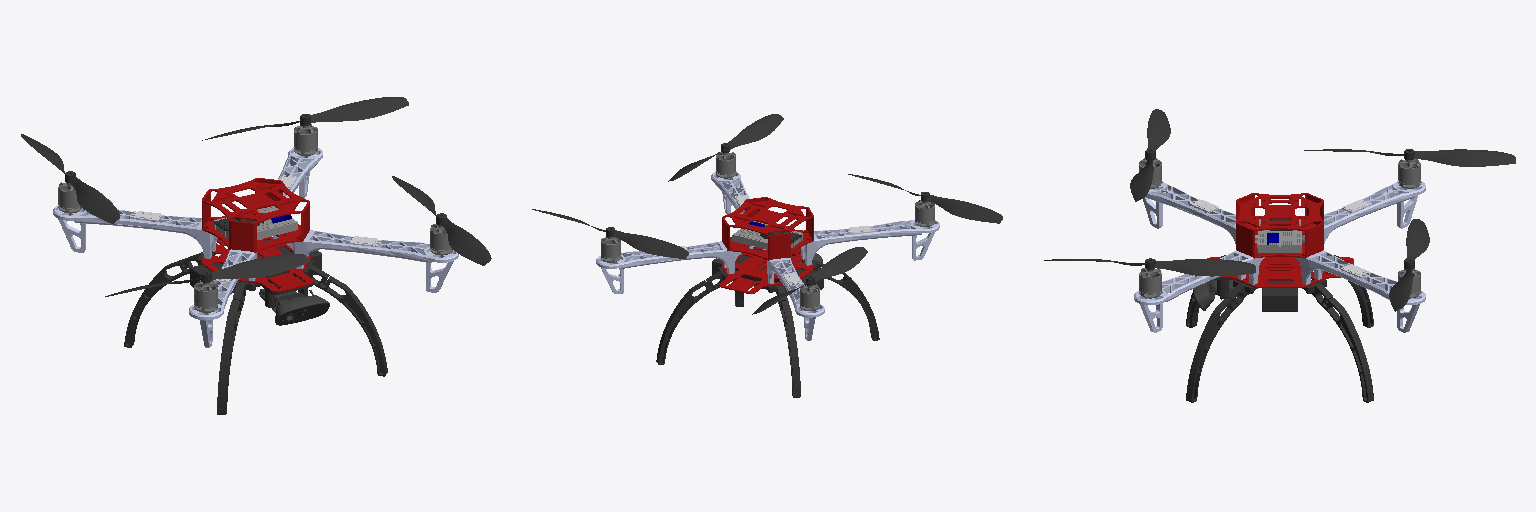
URDF robot description (f450_uav):
<?xml version="1.0" ?>
<!-- Generated using onshape-to-robot -->
<!-- Onshape https://cad.onshape.com/documents/eabe3530e827b594760d5147/w/40df5cfaaab61d9711ab5c88/e/db3a2be80f20127e1a4178f8 -->
<robot name="f450_uav">
  <!-- Link bottom_plate -->
  <link name="bottom_plate">
    <inertial>
      <origin xyz="0.0651109 -0.0387301 0.0181534" rpy="0 0 0"/>
      <mass value="1.25653"/>
      <inertia ixx="0.012363" ixy="3.3165e-05" ixz="5.60471e-05" iyy="0.0124502" iyz="-0.00031169" izz="0.0213427"/>
    </inertial>
    <!-- Part esp32_dev_kit_v1 -->
    <visual>
      <origin xyz="0.0178007 -0.0308852 0.0523806" rpy="0 -0 -1.5708"/>
      <geometry>
        <mesh filename="package://f450_description/assets/esp32_dev_kit_v1.stl"/>
      </geometry>
      <material name="esp32_dev_kit_v1_material">
        <color rgba="0.25098 0.25098 0.25098 1"/>
      </material>
    </visual>
    <collision>
      <origin xyz="0.0178007 -0.0308852 0.0523806" rpy="0 -0 -1.5708"/>
      <geometry>
        <mesh filename="package://f450_description/assets/esp32_dev_kit_v1.stl"/>
      </geometry>
    </collision>
    <!-- Part raspberry_pi_3_b_plus -->
    <visual>
      <origin xyz="0.0653323 -0.0329298 0.0764926" rpy="-1.5708 0 3.14159"/>
      <geometry>
        <mesh filename="package://f450_description/assets/raspberry_pi_3_b_plus.stl"/>
      </geometry>
      <material name="raspberry_pi_3_b_plus_material">
        <color rgba="0.960784 0.960784 0.964706 1"/>
      </material>
    </visual>
    <collision>
      <origin xyz="0.0653323 -0.0329298 0.0764926" rpy="-1.5708 0 3.14159"/>
      <geometry>
        <mesh filename="package://f450_description/assets/raspberry_pi_3_b_plus.stl"/>
      </geometry>
    </collision>
    <!-- Part bottom_plate -->
    <visual>
      <origin xyz="0.0653685 -0.0328291 0.000583504" rpy="-0 0 1.5708"/>
      <geometry>
        <mesh filename="package://f450_description/assets/bottom_plate.stl"/>
      </geometry>
      <material name="bottom_plate_material">
        <color rgba="0.694118 0.101961 0.101961 1"/>
      </material>
    </visual>
    <collision>
      <origin xyz="0.0653685 -0.0328291 0.000583504" rpy="-0 0 1.5708"/>
      <geometry>
        <mesh filename="package://f450_description/assets/bottom_plate.stl"/>
      </geometry>
    </collision>
    <!-- Part camera_support -->
    <visual>
      <origin xyz="0.0658056 -0.104579 -0.0032165" rpy="0 0 -3.14159"/>
      <geometry>
        <mesh filename="package://f450_description/assets/camera_support.stl"/>
      </geometry>
      <material name="camera_support_material">
        <color rgba="0.25098 0.25098 0.25098 1"/>
      </material>
    </visual>
    <collision>
      <origin xyz="0.0658056 -0.104579 -0.0032165" rpy="0 0 -3.14159"/>
      <geometry>
        <mesh filename="package://f450_description/assets/camera_support.stl"/>
      </geometry>
    </collision>
    <!-- Part mpu_9250 -->
    <visual>
      <origin xyz="0.104686 -0.0488602 0.0542192" rpy="0 -0 -1.5708"/>
      <geometry>
        <mesh filename="package://f450_description/assets/mpu_9250.stl"/>
      </geometry>
      <material name="mpu_9250_material">
        <color rgba="0 0 0.627451 1"/>
      </material>
    </visual>
    <collision>
      <origin xyz="0.104686 -0.0488602 0.0542192" rpy="0 -0 -1.5708"/>
      <geometry>
        <mesh filename="package://f450_description/assets/mpu_9250.stl"/>
      </geometry>
    </collision>
    <!-- Part battery -->
    <visual>
      <origin xyz="0.0655915 -0.0328291 -0.0242165" rpy="0 0 -3.14159"/>
      <geometry>
        <mesh filename="package://f450_description/assets/battery.stl"/>
      </geometry>
      <material name="battery_material">
        <color rgba="0.25098 0.25098 0.25098 1"/>
      </material>
    </visual>
    <collision>
      <origin xyz="0.0655915 -0.0328291 -0.0242165" rpy="0 0 -3.14159"/>
      <geometry>
        <mesh filename="package://f450_description/assets/battery.stl"/>
      </geometry>
    </collision>
    <!-- Part 1045_propeller -->
    <visual>
      <origin xyz="-0.0935326 0.126083 0.0744345" rpy="-0 0 1.5708"/>
      <geometry>
        <mesh filename="package://f450_description/assets/1045_propeller.stl"/>
      </geometry>
      <material name="1045_propeller_material">
        <color rgba="0.25098 0.25098 0.25098 1"/>
      </material>
    </visual>
    <collision>
      <origin xyz="-0.0935326 0.126083 0.0744345" rpy="-0 0 1.5708"/>
      <geometry>
        <mesh filename="package://f450_description/assets/1045_propeller.stl"/>
      </geometry>
    </collision>
    <!-- Part 1045_propeller_2 -->
    <visual>
      <origin xyz="0.22427 -0.191741 0.0744345" rpy="0 -0 -1.5708"/>
      <geometry>
        <mesh filename="package://f450_description/assets/1045_propeller.stl"/>
      </geometry>
      <material name="1045_propeller_2_material">
        <color rgba="0.25098 0.25098 0.25098 1"/>
      </material>
    </visual>
    <collision>
      <origin xyz="0.22427 -0.191741 0.0744345" rpy="0 -0 -1.5708"/>
      <geometry>
        <mesh filename="package://f450_description/assets/1045_propeller.stl"/>
      </geometry>
    </collision>
    <!-- Part arm -->
    <visual>
      <origin xyz="0.163736 -0.131207 0.0399845" rpy="0 -0 -2.35619"/>
      <geometry>
        <mesh filename="package://f450_description/assets/arm.stl"/>
      </geometry>
      <material name="arm_material">
        <color rgba="0.796078 0.823529 0.937255 1"/>
      </material>
    </visual>
    <collision>
      <origin xyz="0.163736 -0.131207 0.0399845" rpy="0 -0 -2.35619"/>
      <geometry>
        <mesh filename="package://f450_description/assets/arm.stl"/>
      </geometry>
    </collision>
    <!-- Part arm_2 -->
    <visual>
      <origin xyz="0.163746 0.0655383 0.0399845" rpy="-0 -0 -0.785398"/>
      <geometry>
        <mesh filename="package://f450_description/assets/arm.stl"/>
      </geometry>
      <material name="arm_2_material">
        <color rgba="0.796078 0.823529 0.937255 1"/>
      </material>
    </visual>
    <collision>
      <origin xyz="0.163746 0.0655383 0.0399845" rpy="-0 -0 -0.785398"/>
      <geometry>
        <mesh filename="package://f450_description/assets/arm.stl"/>
      </geometry>
    </collision>
    <!-- Part arm_3 -->
    <visual>
      <origin xyz="-0.0329989 0.065549 0.0399845" rpy="-0 0 0.785398"/>
      <geometry>
        <mesh filename="package://f450_description/assets/arm.stl"/>
      </geometry>
      <material name="arm_3_material">
        <color rgba="0.796078 0.823529 0.937255 1"/>
      </material>
    </visual>
    <collision>
      <origin xyz="-0.0329989 0.065549 0.0399845" rpy="-0 0 0.785398"/>
      <geometry>
        <mesh filename="package://f450_description/assets/arm.stl"/>
      </geometry>
    </collision>
    <!-- Part leg -->
    <visual>
      <origin xyz="0.0183105 0.00715784 -0.000217496" rpy="-3.14159 0 0.785398"/>
      <geometry>
        <mesh filename="package://f450_description/assets/leg.stl"/>
      </geometry>
      <material name="leg_material">
        <color rgba="0.25098 0.25098 0.25098 1"/>
      </material>
    </visual>
    <collision>
      <origin xyz="0.0183105 0.00715784 -0.000217496" rpy="-3.14159 0 0.785398"/>
      <geometry>
        <mesh filename="package://f450_description/assets/leg.stl"/>
      </geometry>
    </collision>
    <!-- Part top_plate -->
    <visual>
      <origin xyz="0.0653685 -0.0328291 0.0756676" rpy="-0 -0 -0"/>
      <geometry>
        <mesh filename="package://f450_description/assets/top_plate.stl"/>
      </geometry>
      <material name="top_plate_material">
        <color rgba="0.694118 0.101961 0.101961 1"/>
      </material>
    </visual>
    <collision>
      <origin xyz="0.0653685 -0.0328291 0.0756676" rpy="-0 -0 -0"/>
      <geometry>
        <mesh filename="package://f450_description/assets/top_plate.stl"/>
      </geometry>
    </collision>
    <!-- Part holybro_brushless_motor_2216_880kv -->
    <visual>
      <origin xyz="-0.0935326 0.126083 0.0384345" rpy="0 0 -3.14159"/>
      <geometry>
        <mesh filename="package://f450_description/assets/holybro_brushless_motor_2216_880kv.stl"/>
      </geometry>
      <material name="holybro_brushless_motor_2216_880kv_material">
        <color rgba="0.501961 0.501961 0.501961 1"/>
      </material>
    </visual>
    <collision>
      <origin xyz="-0.0935326 0.126083 0.0384345" rpy="0 0 -3.14159"/>
      <geometry>
        <mesh filename="package://f450_description/assets/holybro_brushless_motor_2216_880kv.stl"/>
      </geometry>
    </collision>
    <!-- Part top_plate_2 -->
    <visual>
      <origin xyz="0.0653685 -0.0328291 0.0390156" rpy="0 0 3.14159"/>
      <geometry>
        <mesh filename="package://f450_description/assets/top_plate__2.stl"/>
      </geometry>
      <material name="top_plate_2_material">
        <color rgba="0.694118 0.101961 0.101961 1"/>
      </material>
    </visual>
    <collision>
      <origin xyz="0.0653685 -0.0328291 0.0390156" rpy="0 0 3.14159"/>
      <geometry>
        <mesh filename="package://f450_description/assets/top_plate__2.stl"/>
      </geometry>
    </collision>
    <!-- Part protoboard -->
    <visual>
      <origin xyz="0.0654307 -0.0327752 0.0398406" rpy="0 -0 -1.5708"/>
      <geometry>
        <mesh filename="package://f450_description/assets/protoboard.stl"/>
      </geometry>
      <material name="protoboard_material">
        <color rgba="0.627451 0.627451 0.627451 1"/>
      </material>
    </visual>
    <collision>
      <origin xyz="0.0654307 -0.0327752 0.0398406" rpy="0 -0 -1.5708"/>
      <geometry>
        <mesh filename="package://f450_description/assets/protoboard.stl"/>
      </geometry>
    </collision>
    <!-- Part 1045_propeller_3 -->
    <visual>
      <origin xyz="-0.0935433 -0.19173 0.0744345" rpy="0 0 -3.14159"/>
      <geometry>
        <mesh filename="package://f450_description/assets/1045_propeller.stl"/>
      </geometry>
      <material name="1045_propeller_3_material">
        <color rgba="0.25098 0.25098 0.25098 1"/>
      </material>
    </visual>
    <collision>
      <origin xyz="-0.0935433 -0.19173 0.0744345" rpy="0 0 -3.14159"/>
      <geometry>
        <mesh filename="package://f450_description/assets/1045_propeller.stl"/>
      </geometry>
    </collision>
    <!-- Part littlebee_spring30a -->
    <visual>
      <origin xyz="0.152574 -0.0983226 0.0585284" rpy="-3.14159 -0 -2.35619"/>
      <geometry>
        <mesh filename="package://f450_description/assets/littlebee_spring30a.stl"/>
      </geometry>
      <material name="littlebee_spring30a_material">
        <color rgba="0.866667 0.866667 0.890196 1"/>
      </material>
    </visual>
    <collision>
      <origin xyz="0.152574 -0.0983226 0.0585284" rpy="-3.14159 -0 -2.35619"/>
      <geometry>
        <mesh filename="package://f450_description/assets/littlebee_spring30a.stl"/>
      </geometry>
    </collision>
    <!-- Part littlebee_spring30a_2 -->
    <visual>
      <origin xyz="-0.00012506 -0.120035 0.0585284" rpy="-3.14159 0 2.35619"/>
      <geometry>
        <mesh filename="package://f450_description/assets/littlebee_spring30a.stl"/>
      </geometry>
      <material name="littlebee_spring30a_2_material">
        <color rgba="0.866667 0.866667 0.890196 1"/>
      </material>
    </visual>
    <collision>
      <origin xyz="-0.00012506 -0.120035 0.0585284" rpy="-3.14159 0 2.35619"/>
      <geometry>
        <mesh filename="package://f450_description/assets/littlebee_spring30a.stl"/>
      </geometry>
    </collision>
    <!-- Part holybro_brushless_motor_2216_880kv_2 -->
    <visual>
      <origin xyz="0.22428 0.126072 0.0384345" rpy="-0 0 1.5708"/>
      <geometry>
        <mesh filename="package://f450_description/assets/holybro_brushless_motor_2216_880kv.stl"/>
      </geometry>
      <material name="holybro_brushless_motor_2216_880kv_2_material">
        <color rgba="0.501961 0.501961 0.501961 1"/>
      </material>
    </visual>
    <collision>
      <origin xyz="0.22428 0.126072 0.0384345" rpy="-0 0 1.5708"/>
      <geometry>
        <mesh filename="package://f450_description/assets/holybro_brushless_motor_2216_880kv.stl"/>
      </geometry>
    </collision>
    <!-- Part logitech_c270b -->
    <visual>
      <origin xyz="0.0528721 -0.106185 -0.0215468" rpy="-1.5708 -0 0"/>
      <geometry>
        <mesh filename="package://f450_description/assets/logitech_c270b.stl"/>
      </geometry>
      <material name="logitech_c270b_material">
        <color rgba="0.294118 0.294118 0.294118 1"/>
      </material>
    </visual>
    <collision>
      <origin xyz="0.0528721 -0.106185 -0.0215468" rpy="-1.5708 -0 0"/>
      <geometry>
        <mesh filename="package://f450_description/assets/logitech_c270b.stl"/>
      </geometry>
    </collision>
    <!-- Part holybro_brushless_motor_2216_880kv_3 -->
    <visual>
      <origin xyz="0.22427 -0.191741 0.0384345" rpy="-0 -0 0"/>
      <geometry>
        <mesh filename="package://f450_description/assets/holybro_brushless_motor_2216_880kv.stl"/>
      </geometry>
      <material name="holybro_brushless_motor_2216_880kv_3_material">
        <color rgba="0.501961 0.501961 0.501961 1"/>
      </material>
    </visual>
    <collision>
      <origin xyz="0.22427 -0.191741 0.0384345" rpy="-0 -0 0"/>
      <geometry>
        <mesh filename="package://f450_description/assets/holybro_brushless_motor_2216_880kv.stl"/>
      </geometry>
    </collision>
    <!-- Part leg_2 -->
    <visual>
      <origin xyz="0.105355 0.0142289 -0.000217496" rpy="-3.14159 -0 -0.785398"/>
      <geometry>
        <mesh filename="package://f450_description/assets/leg.stl"/>
      </geometry>
      <material name="leg_2_material">
        <color rgba="0.25098 0.25098 0.25098 1"/>
      </material>
    </visual>
    <collision>
      <origin xyz="0.105355 0.0142289 -0.000217496" rpy="-3.14159 -0 -0.785398"/>
      <geometry>
        <mesh filename="package://f450_description/assets/leg.stl"/>
      </geometry>
    </collision>
    <!-- Part holybro_brushless_motor_2216_880kv_4 -->
    <visual>
      <origin xyz="-0.0935433 -0.19173 0.0384345" rpy="0 -0 -1.5708"/>
      <geometry>
        <mesh filename="package://f450_description/assets/holybro_brushless_motor_2216_880kv.stl"/>
      </geometry>
      <material name="holybro_brushless_motor_2216_880kv_4_material">
        <color rgba="0.501961 0.501961 0.501961 1"/>
      </material>
    </visual>
    <collision>
      <origin xyz="-0.0935433 -0.19173 0.0384345" rpy="0 -0 -1.5708"/>
      <geometry>
        <mesh filename="package://f450_description/assets/holybro_brushless_motor_2216_880kv.stl"/>
      </geometry>
    </collision>
    <!-- Part leg_3 -->
    <visual>
      <origin xyz="0.0253816 -0.079887 -0.000217496" rpy="-3.14159 0 2.35619"/>
      <geometry>
        <mesh filename="package://f450_description/assets/leg.stl"/>
      </geometry>
      <material name="leg_3_material">
        <color rgba="0.25098 0.25098 0.25098 1"/>
      </material>
    </visual>
    <collision>
      <origin xyz="0.0253816 -0.079887 -0.000217496" rpy="-3.14159 0 2.35619"/>
      <geometry>
        <mesh filename="package://f450_description/assets/leg.stl"/>
      </geometry>
    </collision>
    <!-- Part logitech_c270c -->
    <visual>
      <origin xyz="0.0528721 -0.0398885 -0.011086" rpy="1.74533 -0 0"/>
      <geometry>
        <mesh filename="package://f450_description/assets/logitech_c270c.stl"/>
      </geometry>
      <material name="logitech_c270c_material">
        <color rgba="0.294118 0.294118 0.294118 1"/>
      </material>
    </visual>
    <collision>
      <origin xyz="0.0528721 -0.0398885 -0.011086" rpy="1.74533 -0 0"/>
      <geometry>
        <mesh filename="package://f450_description/assets/logitech_c270c.stl"/>
      </geometry>
    </collision>
    <!-- Part arm_4 -->
    <visual>
      <origin xyz="-0.0330096 -0.131196 0.0399845" rpy="0 0 2.35619"/>
      <geometry>
        <mesh filename="package://f450_description/assets/arm.stl"/>
      </geometry>
      <material name="arm_4_material">
        <color rgba="0.796078 0.823529 0.937255 1"/>
      </material>
    </visual>
    <collision>
      <origin xyz="-0.0330096 -0.131196 0.0399845" rpy="0 0 2.35619"/>
      <geometry>
        <mesh filename="package://f450_description/assets/arm.stl"/>
      </geometry>
    </collision>
    <!-- Part 1045_propeller_4 -->
    <visual>
      <origin xyz="0.22428 0.126072 0.0744345" rpy="-0 -0 0"/>
      <geometry>
        <mesh filename="package://f450_description/assets/1045_propeller.stl"/>
      </geometry>
      <material name="1045_propeller_4_material">
        <color rgba="0.25098 0.25098 0.25098 1"/>
      </material>
    </visual>
    <collision>
      <origin xyz="0.22428 0.126072 0.0744345" rpy="-0 -0 0"/>
      <geometry>
        <mesh filename="package://f450_description/assets/1045_propeller.stl"/>
      </geometry>
    </collision>
    <!-- Part leg_4 -->
    <visual>
      <origin xyz="0.112426 -0.0728159 -0.000217496" rpy="-3.14159 -0 -2.35619"/>
      <geometry>
        <mesh filename="package://f450_description/assets/leg.stl"/>
      </geometry>
      <material name="leg_4_material">
        <color rgba="0.25098 0.25098 0.25098 1"/>
      </material>
    </visual>
    <collision>
      <origin xyz="0.112426 -0.0728159 -0.000217496" rpy="-3.14159 -0 -2.35619"/>
      <geometry>
        <mesh filename="package://f450_description/assets/leg.stl"/>
      </geometry>
    </collision>
    <!-- Part littlebee_spring30a_3 -->
    <visual>
      <origin xyz="0.130862 0.0543768 0.0585284" rpy="3.14159 -0 -0.785398"/>
      <geometry>
        <mesh filename="package://f450_description/assets/littlebee_spring30a.stl"/>
      </geometry>
      <material name="littlebee_spring30a_3_material">
        <color rgba="0.866667 0.866667 0.890196 1"/>
      </material>
    </visual>
    <collision>
      <origin xyz="0.130862 0.0543768 0.0585284" rpy="3.14159 -0 -0.785398"/>
      <geometry>
        <mesh filename="package://f450_description/assets/littlebee_spring30a.stl"/>
      </geometry>
    </collision>
    <!-- Part littlebee_spring30a_4 -->
    <visual>
      <origin xyz="-0.0224286 0.0320733 0.0585284" rpy="3.14159 -0 0.785398"/>
      <geometry>
        <mesh filename="package://f450_description/assets/littlebee_spring30a.stl"/>
      </geometry>
      <material name="littlebee_spring30a_4_material">
        <color rgba="0.866667 0.866667 0.890196 1"/>
      </material>
    </visual>
    <collision>
      <origin xyz="-0.0224286 0.0320733 0.0585284" rpy="3.14159 -0 0.785398"/>
      <geometry>
        <mesh filename="package://f450_description/assets/littlebee_spring30a.stl"/>
      </geometry>
    </collision>
  </link>
</robot>

--- Facts derived from the render (not from the file) ---
The picture shows the robot from 3 angles, left to right: view 1: azimuth 30°, elevation 25°; view 2: azimuth 150°, elevation 25°; view 3: azimuth 270°, elevation 25°; orthographic projection.
Model f450_uav with 1 links and 0 joints (none), rooted at bottom_plate, posed all joints at 0.
Visible links, largest first — view 1: bottom_plate; view 2: bottom_plate; view 3: bottom_plate.
Boxes of the visible links, <box> form: bottom_plate: <box>21,97,491,414</box>; bottom_plate: <box>532,114,1002,397</box>; bottom_plate: <box>1044,109,1515,402</box>.
Size in the robot's own frame: 0.5778 by 0.5778 by 0.2142 metres.
30 mesh visuals loaded from 16 distinct referenced files (15 binary STL); not drawn: 1 (reference not matched to a file when rendering).
